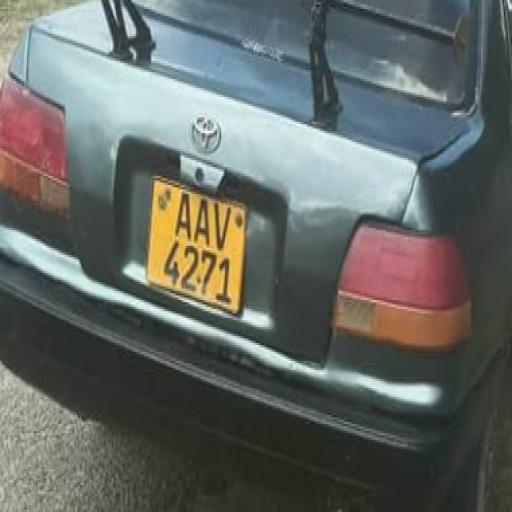number-plates: (154, 175, 236, 312)
